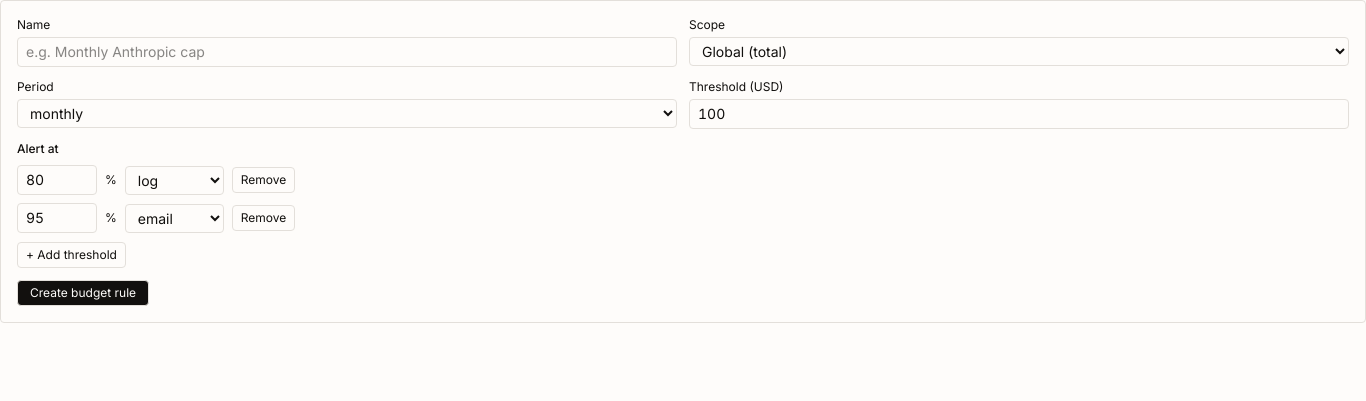
Test: CreateBudgetRuleForm › 7. scope=provider shows provider select with PROVIDER_OPTIONS
The image size is (1366, 401).
Select "Provider" in the dropdown with test id "create-budget-rule-scope" at coordinates (1019, 52), box [689,37,1349,66]
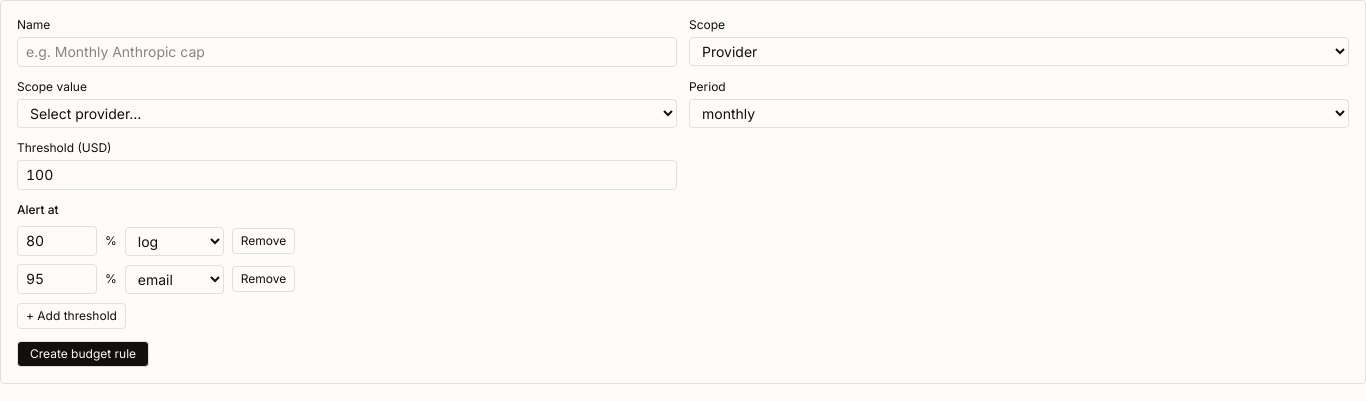
Expected: the dropdown with test id "create-budget-rule-scope-value" is shown, [17,99,677,128]
